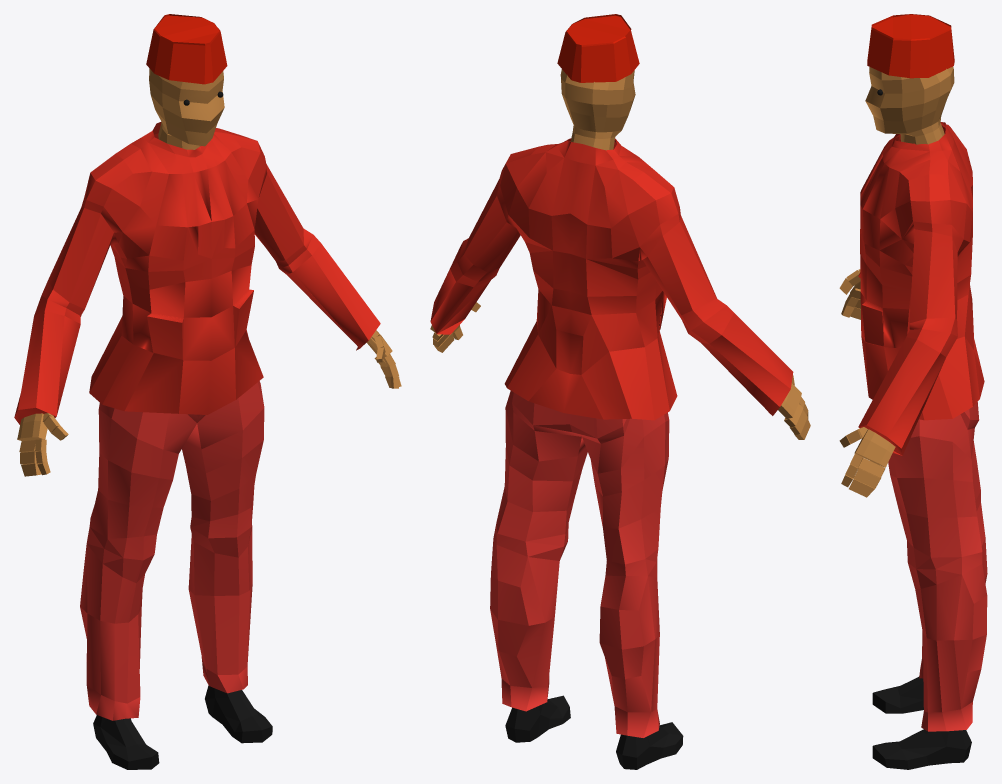
Rendered from Wei Lin.fbx.
3 views of the same model, side by side, from view 1: azimuth 30°, elevation 25°; view 2: azimuth 150°, elevation 25°; view 3: azimuth 270°, elevation 25° (orthographic).
Parts seen in each view (by area): view 1: Shirt.001, Pants.001, Body.001, Hat, Head, Body.002; view 2: Shirt.001, Pants.001, Hat, Body.001, Head, Body.002; view 3: Shirt.001, Pants.001, Hat, Head, Body.001, Body.002, Body.005, Body.003.
Boxes of the visible parts, x1=… form: Shirt.001: x1=14, y1=122, x2=380, y2=424; Pants.001: x1=80, y1=381, x2=264, y2=720; Body.001: x1=93, y1=685, x2=272, y2=769; Hat: x1=146, y1=14, x2=227, y2=84; Head: x1=149, y1=68, x2=224, y2=146; Body.002: x1=17, y1=330, x2=401, y2=476; Shirt.001: x1=430, y1=138, x2=793, y2=420; Pants.001: x1=490, y1=391, x2=669, y2=737; Hat: x1=557, y1=14, x2=639, y2=82; Body.001: x1=505, y1=695, x2=683, y2=769; Head: x1=560, y1=69, x2=635, y2=138; Body.002: x1=430, y1=302, x2=810, y2=439; Shirt.001: x1=858, y1=122, x2=984, y2=455; Pants.001: x1=888, y1=402, x2=987, y2=731; Hat: x1=867, y1=14, x2=954, y2=78; Head: x1=865, y1=66, x2=954, y2=136; Body.001: x1=872, y1=676, x2=971, y2=769; Body.002: x1=839, y1=269, x2=895, y2=497; Body.005: x1=841, y1=270, x2=883, y2=496; Body.003: x1=900, y1=123, x2=944, y2=144.
Bounding box in the file's own units: 868 × 1600 × 303.
